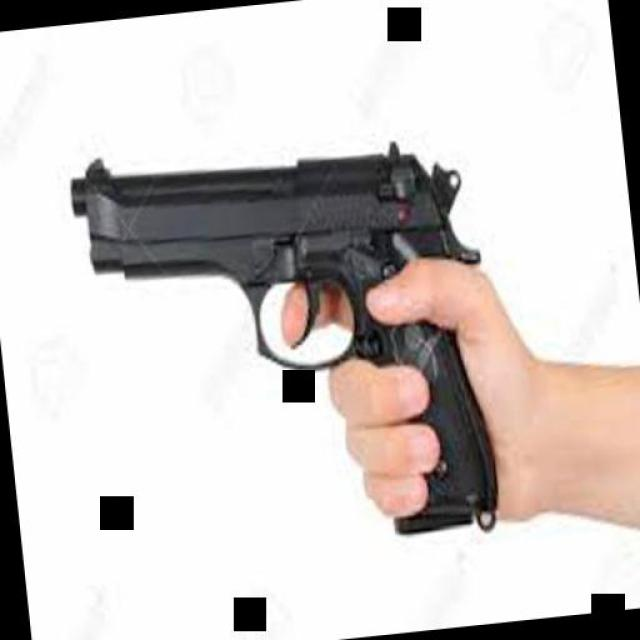gun: (61, 104, 510, 585)
